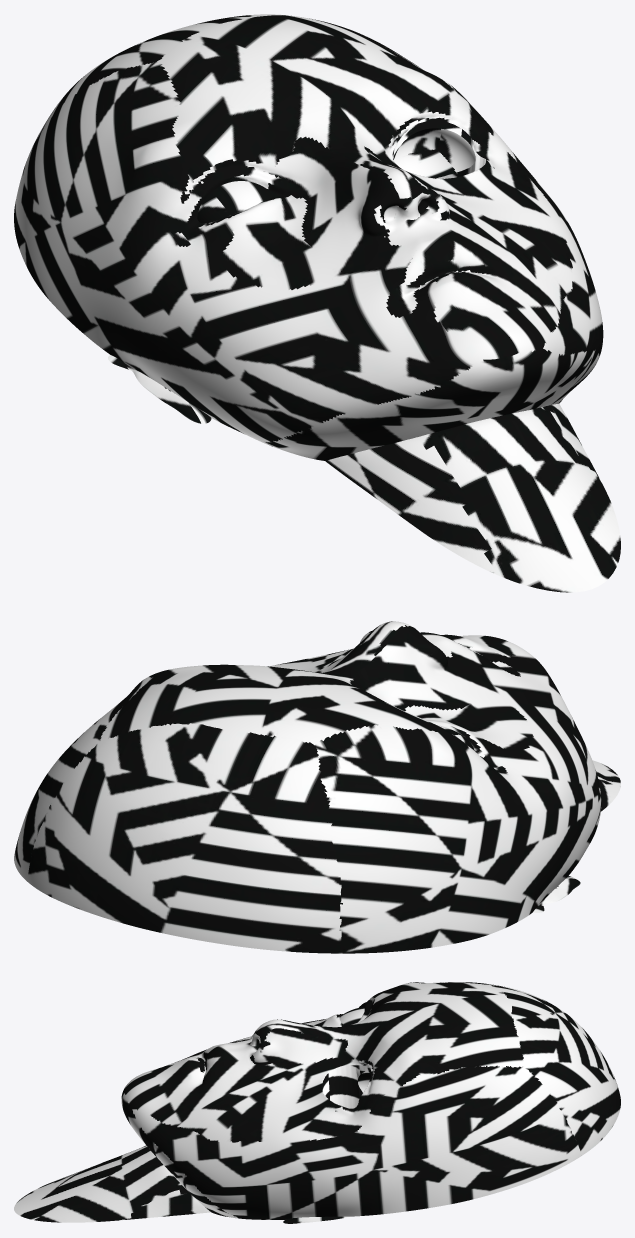
The picture shows the model from 3 angles, top to bottom: view 1: azimuth 30°, elevation 25°; view 2: azimuth 150°, elevation 25°; view 3: azimuth 270°, elevation 25°; orthographic projection. The views are drawn at different scales.
Visible parts, largest first — view 1: FACE TEMP; view 2: FACE TEMP; view 3: FACE TEMP.
Boxes of the visible parts, x1,y1,x2,y2 form: FACE TEMP: [14, 14, 620, 592]; FACE TEMP: [14, 621, 620, 953]; FACE TEMP: [14, 982, 620, 1223].
Size of the model in its own units: 18.57 by 12.24 by 32.58.
1 material, 1 textured.
